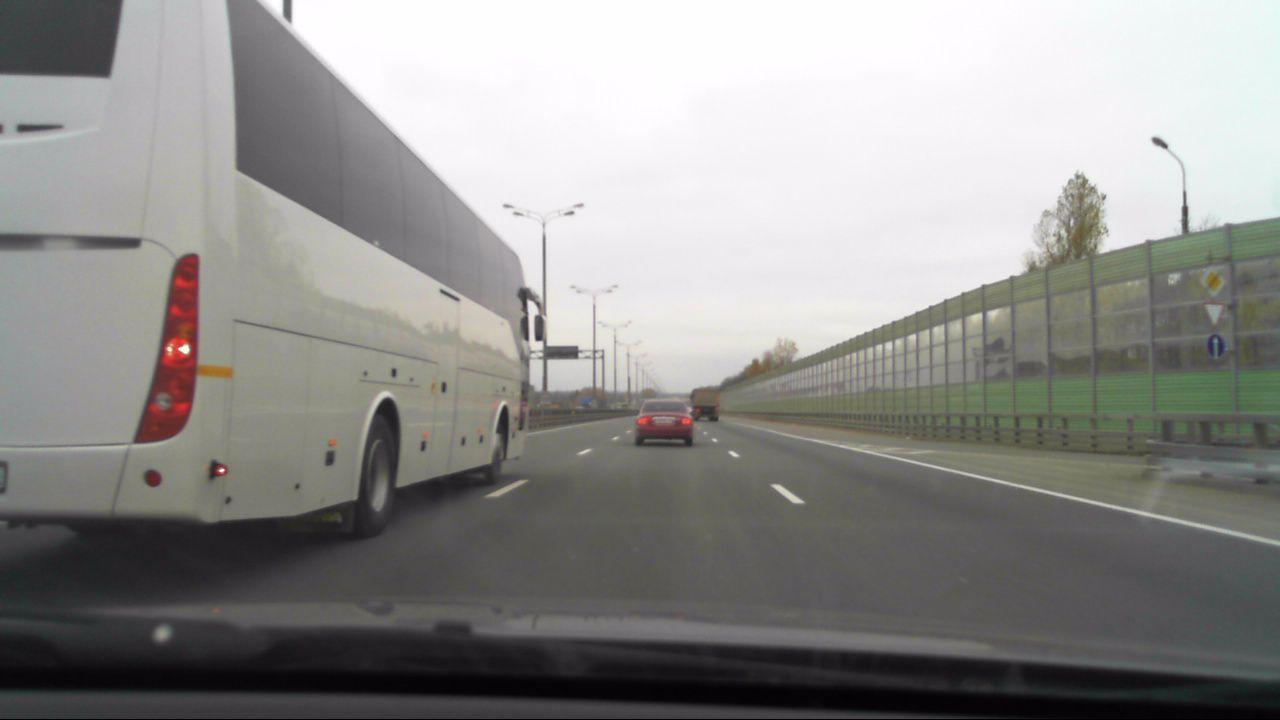2_2: (1198, 267, 1228, 297)
2_4: (1200, 298, 1228, 330)
4_1_1: (1207, 335, 1228, 359)
